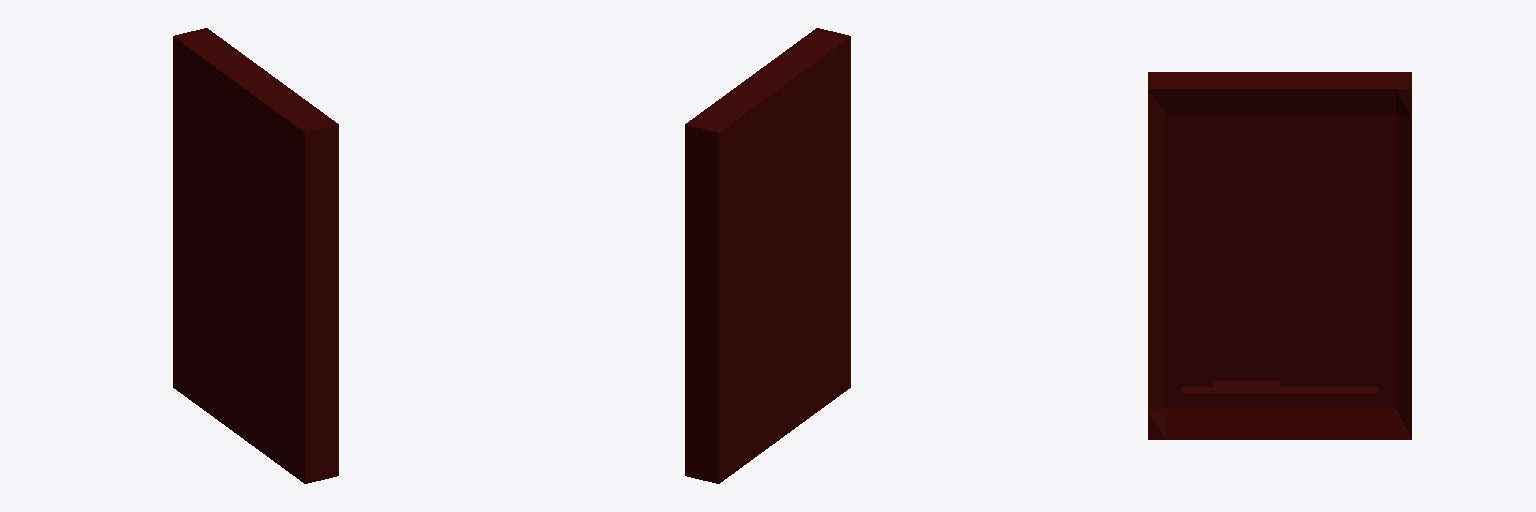
Rendered from doorpart1.obj.
The picture shows the model from 3 angles: view 1: azimuth 30°, elevation 25°; view 2: azimuth 150°, elevation 25°; view 3: azimuth 270°, elevation 25°; orthographic projection.
Visible parts, largest first — view 1: Cube_Cube.006; view 2: Cube_Cube.006; view 3: Cube_Cube.006.
Part boxes in pixels (x1,y1,x2,y2): Cube_Cube.006: (173, 28, 338, 483); Cube_Cube.006: (685, 28, 850, 483); Cube_Cube.006: (1148, 72, 1411, 439).
Size of the model in its own units: 0.4941 by 4.87 by 3.33.